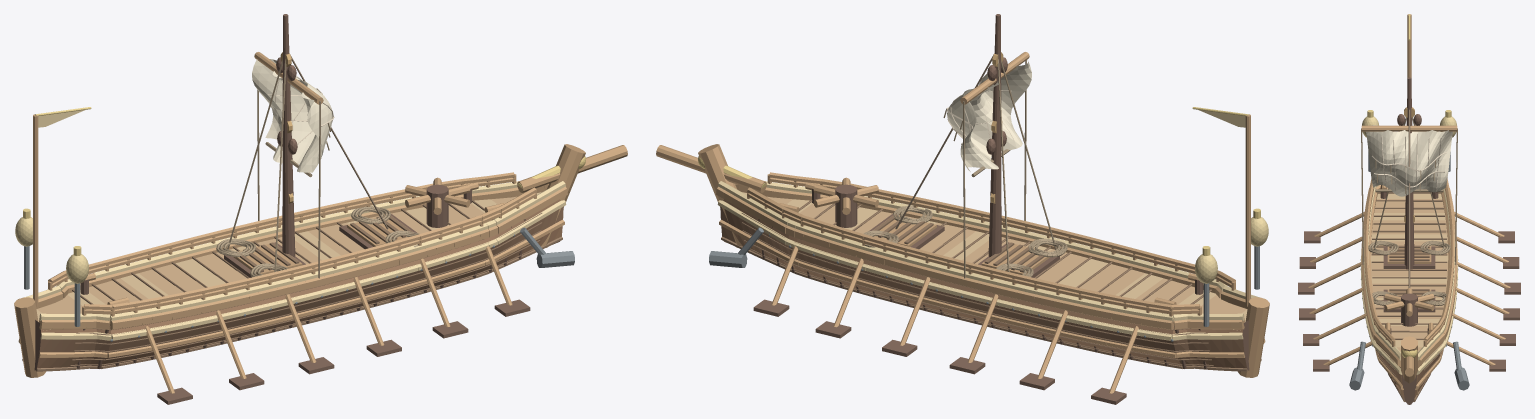
Rendered from pirogue-v5.glb.
3 renders of one model, left to right at view 1: azimuth 30°, elevation 25°; view 2: azimuth 150°, elevation 25°; view 3: azimuth 270°, elevation 25°, orthographic. The views are drawn at different scales.
Visible parts, largest first — view 1: pirogue_hull_wood, pirogue_hull_pale, pirogue_railings_wood, pirogue_hull_seam, pirogue_hull_hull, pirogue_hull_hull2, pirogue_hull_deck, pirogue_sails_sail, pirogue_hull_decklight, pirogue_oars_wood, pirogue_fittings_wood, pirogue_masts_darkwood (+11 smaller); view 2: pirogue_hull_wood, pirogue_hull_pale, pirogue_railings_wood, pirogue_hull_seam, pirogue_hull_hull, pirogue_hull_hull2, pirogue_hull_deck, pirogue_sails_sail, pirogue_hull_decklight, pirogue_oars_wood, pirogue_fittings_wood, pirogue_masts_darkwood (+11 smaller); view 3: pirogue_sails_sail, pirogue_hull_deck, pirogue_oars_wood, pirogue_hull_wood, pirogue_oars_darkwood, pirogue_hull_decklight, pirogue_hull_seam, pirogue_railings_wood, pirogue_hull_pale, pirogue_fittings_darkwood, pirogue_fittings_wood, pirogue_masts_darkwood (+13 smaller).
Boxes of the visible parts, bbox=[...] form: pirogue_hull_wood: bbox=[14, 144, 627, 377]; pirogue_hull_pale: bbox=[18, 181, 566, 340]; pirogue_railings_wood: bbox=[48, 172, 536, 316]; pirogue_hull_seam: bbox=[22, 199, 562, 371]; pirogue_hull_hull: bbox=[35, 206, 563, 370]; pirogue_hull_hull2: bbox=[37, 199, 562, 368]; pirogue_hull_deck: bbox=[37, 196, 516, 313]; pirogue_sails_sail: bbox=[252, 59, 332, 172]; pirogue_hull_decklight: bbox=[36, 192, 541, 330]; pirogue_oars_wood: bbox=[145, 246, 512, 393]; pirogue_fittings_wood: bbox=[81, 177, 505, 304]; pirogue_masts_darkwood: bbox=[276, 14, 297, 256]; pirogue_hull_wood: bbox=[656, 144, 1269, 377]; pirogue_hull_pale: bbox=[717, 181, 1265, 340]; pirogue_railings_wood: bbox=[747, 172, 1235, 316]; pirogue_hull_seam: bbox=[721, 199, 1261, 371]; pirogue_hull_hull: bbox=[720, 206, 1248, 370]; pirogue_hull_hull2: bbox=[721, 199, 1246, 368]; pirogue_hull_deck: bbox=[767, 196, 1246, 313]; pirogue_sails_sail: bbox=[947, 59, 1031, 171]; pirogue_hull_decklight: bbox=[742, 192, 1247, 330]; pirogue_oars_wood: bbox=[771, 246, 1138, 393]; pirogue_fittings_wood: bbox=[778, 177, 1202, 304]; pirogue_masts_darkwood: bbox=[986, 14, 1007, 256]; pirogue_sails_sail: bbox=[1366, 125, 1452, 196]; pirogue_hull_deck: bbox=[1370, 187, 1448, 351]; pirogue_oars_wood: bbox=[1308, 212, 1510, 365]; pirogue_hull_wood: bbox=[1361, 185, 1457, 394]; pirogue_oars_darkwood: bbox=[1298, 231, 1520, 371]; pirogue_hull_decklight: bbox=[1370, 193, 1448, 347]; pirogue_hull_seam: bbox=[1371, 192, 1447, 401]; pirogue_railings_wood: bbox=[1364, 178, 1454, 346]; pirogue_hull_pale: bbox=[1361, 185, 1457, 374]; pirogue_fittings_darkwood: bbox=[1380, 186, 1438, 334]; pirogue_fittings_wood: bbox=[1381, 185, 1434, 332]; pirogue_masts_darkwood: bbox=[1397, 77, 1421, 269].
Size of the model in its own units: 36.56 by 17.22 by 15.1.
